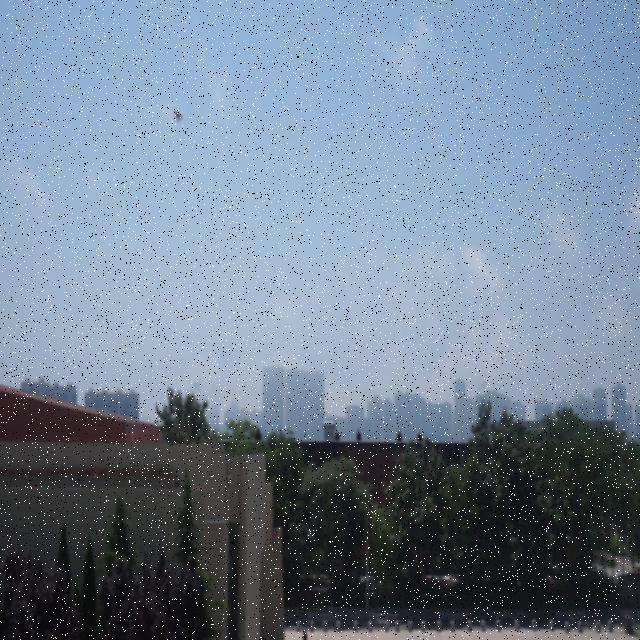UAV: (172, 106, 186, 124)
